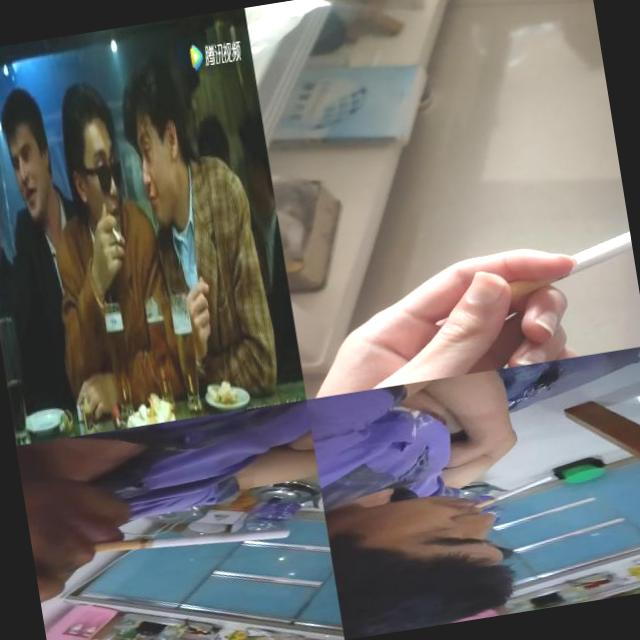smoke: (489, 218, 637, 303), (94, 512, 292, 568), (470, 476, 556, 510), (111, 226, 122, 247)
